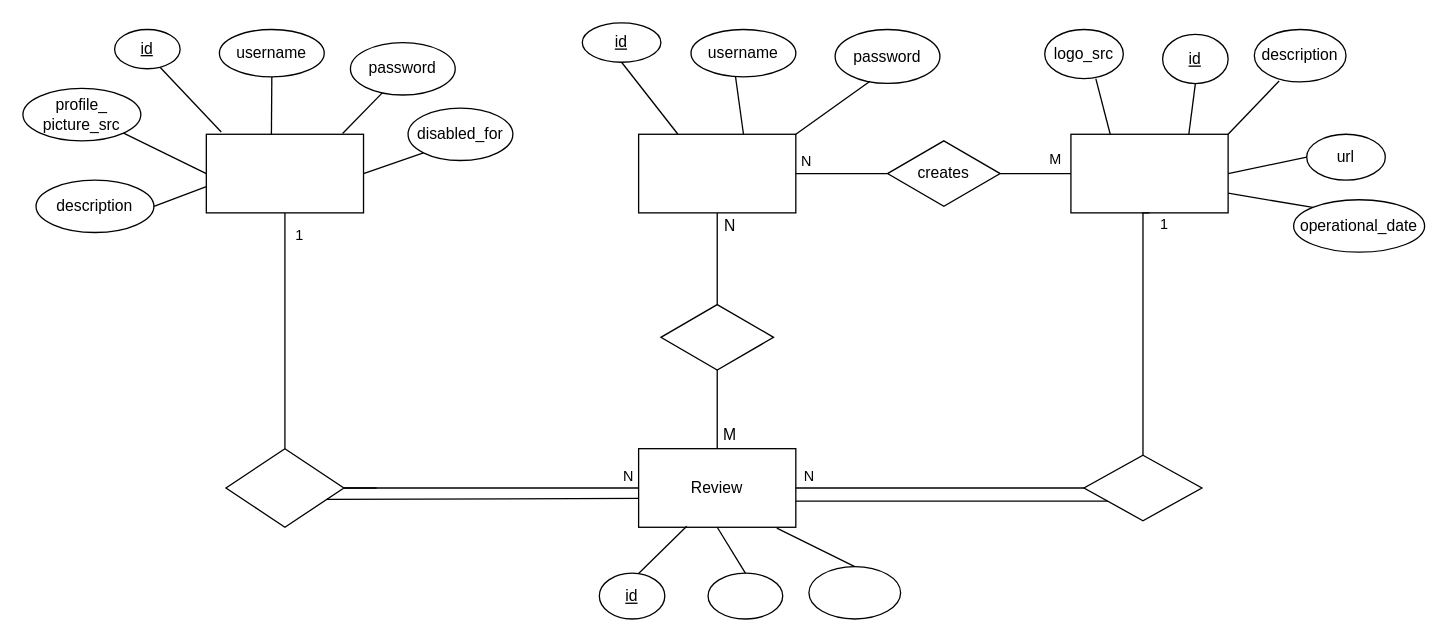
The diagram is 1448 pixels wide and 642 high, and some of its shapes have lost their labels. The shapes that lost their labels are listed below. From the top down, each one's box as (x1, y1, x2, y2) in pixels, then its label:
(205, 133, 364, 213): User
(637, 133, 796, 213): Admin
(1070, 133, 1228, 213): Website
(660, 303, 774, 370): monitors
(225, 447, 344, 527): writes
(1083, 454, 1202, 521): contains
(707, 572, 783, 619): rating
(808, 565, 901, 619): content
